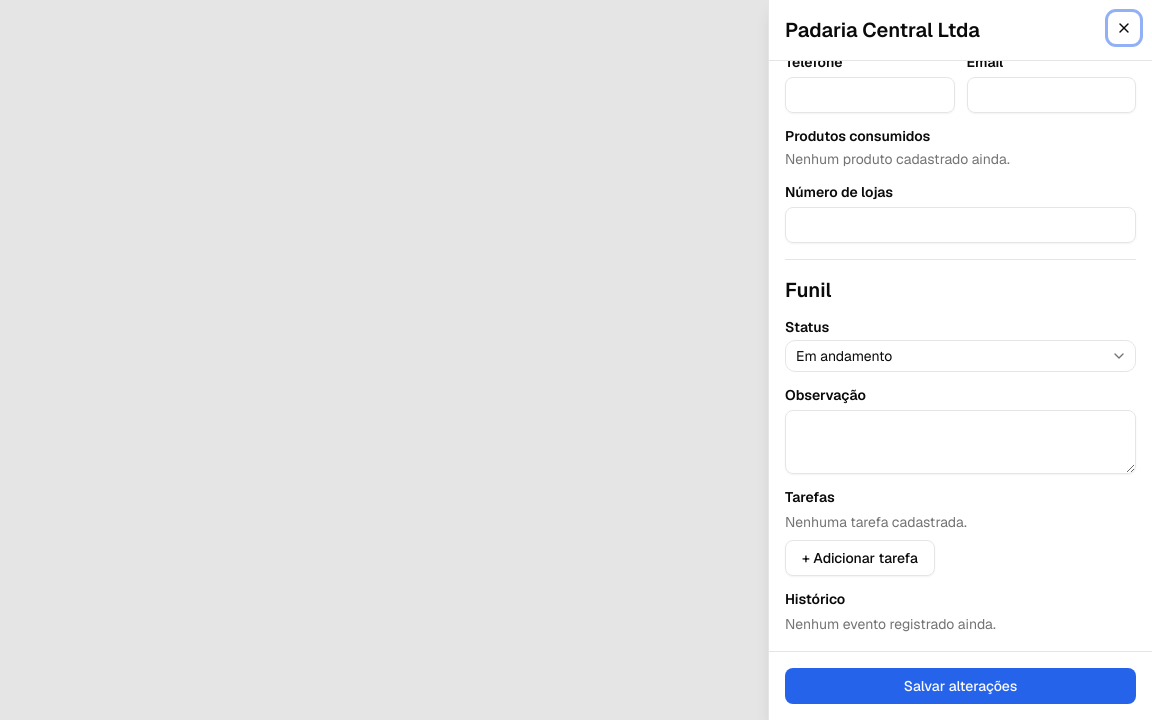
Test: ClienteDetailSheet — opção Encerrado (Fase 29, D-01/D-04/D-05/D-06) › opcao-desabilitada-fora-de-ganho: com um cliente em_andamento, Encerrado está desabilitada e existe o gatilho de tooltip
(page scrolled)
Step 1. Click the dropdown named "Status" → [844, 356], box [785, 340, 1136, 372]
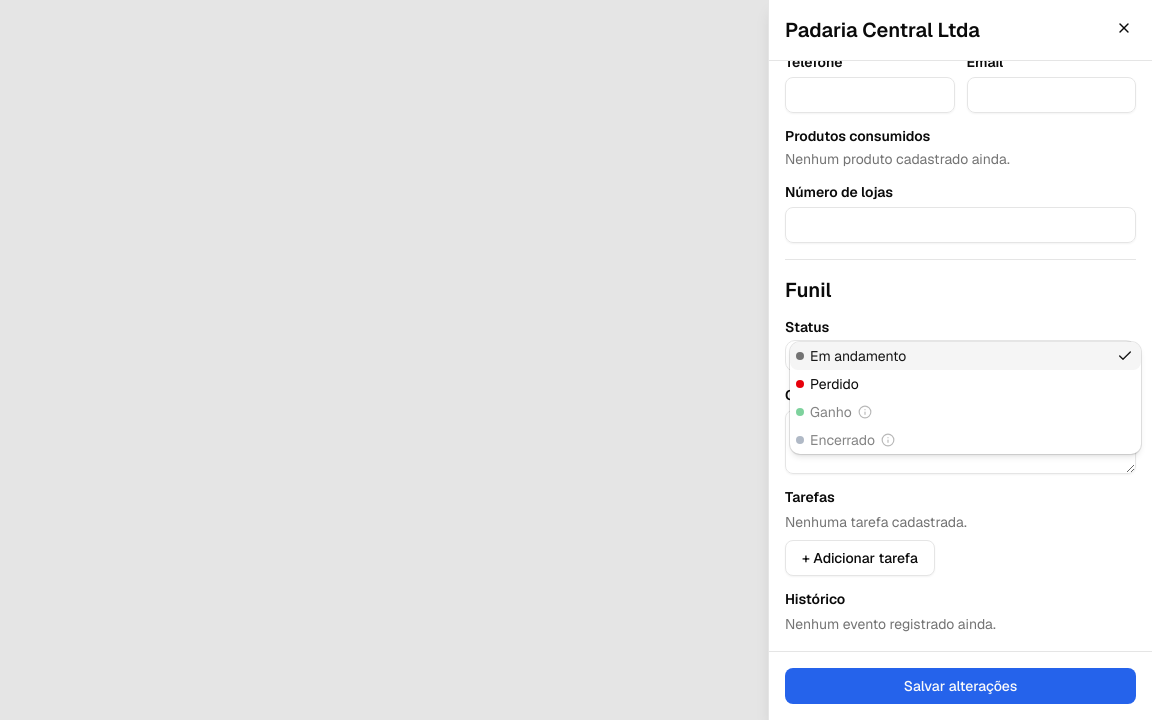
Check: the button named "Disponível somente quando o cliente já está \"Ganho\"." is shown, box [881, 433, 895, 447]
